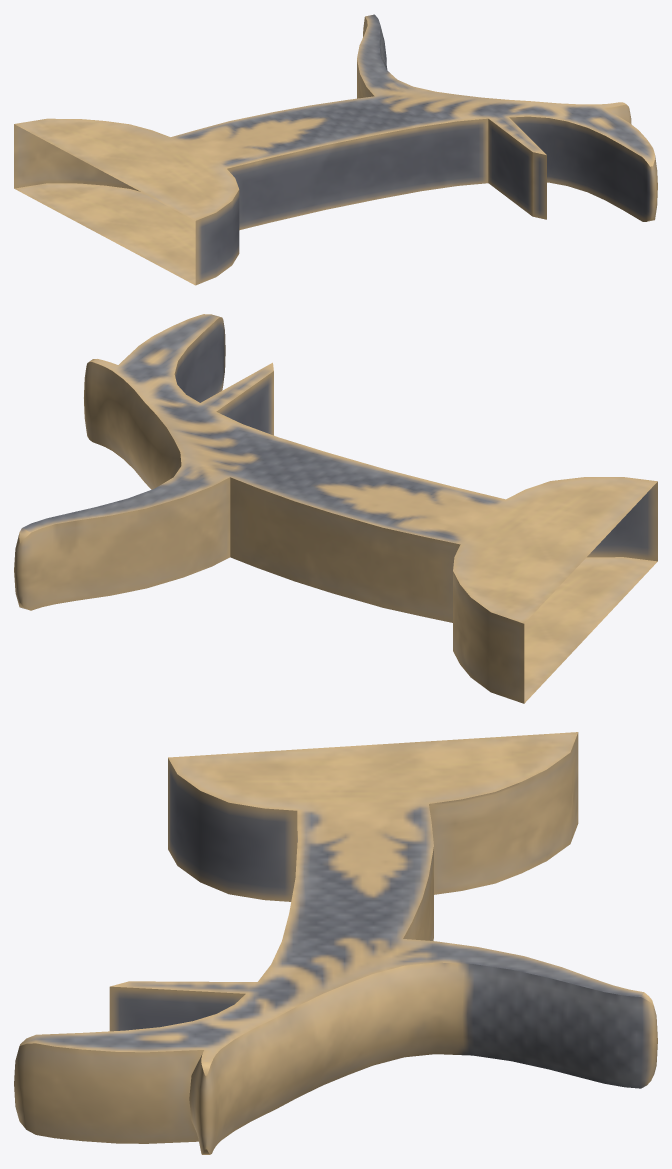
File: SM_Chevallier_01f.fbx
3 renders of one model, top to bottom at view 1: azimuth 30°, elevation 25°; view 2: azimuth 150°, elevation 25°; view 3: azimuth 270°, elevation 25°, orthographic. The views are drawn at different scales.
Parts seen in each view (by area): view 1: SM_Chevallier_01f_LOD0; view 2: SM_Chevallier_01f_LOD0; view 3: SM_Chevallier_01f_LOD0.
Boxes of the visible parts, left/top/right/bottom form: SM_Chevallier_01f_LOD0: left=14, top=14, right=657, bottom=285; SM_Chevallier_01f_LOD0: left=14, top=314, right=657, bottom=703; SM_Chevallier_01f_LOD0: left=14, top=732, right=657, bottom=1154.
Size of the model in its own units: 6.22 by 5.03 by 0.7904.
